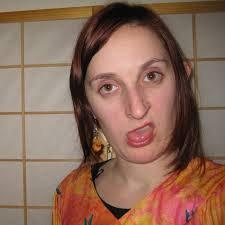Drunk: (91, 25, 178, 160)
